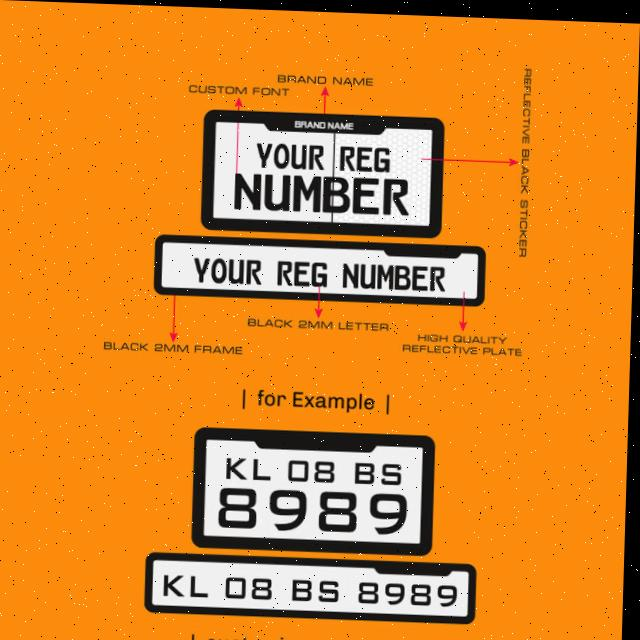plate: (193, 422, 438, 553), (145, 548, 484, 621)
